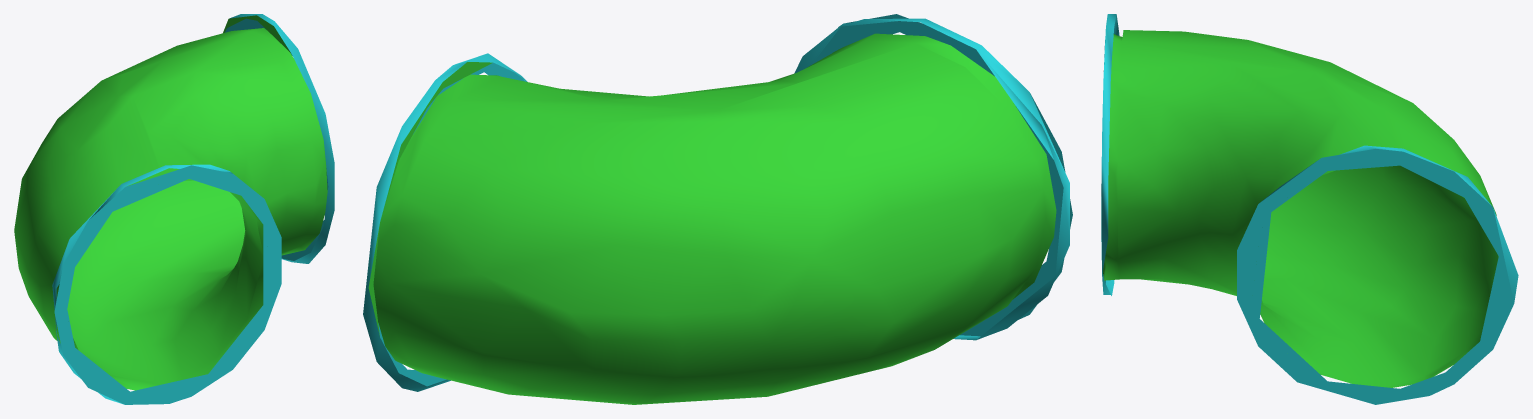
The model's file is tubo3.1_LOD2.fbx.
The picture shows the model from 3 angles, left to right: view 1: azimuth 30°, elevation 25°; view 2: azimuth 150°, elevation 25°; view 3: azimuth 270°, elevation 25°; orthographic projection. The views are drawn at different scales.
Parts seen in each view (by area): view 1: tubo3_1; view 2: tubo3_1; view 3: tubo3_1.
Boxes of the visible parts, left/top/right/bottom form: tubo3_1: left=14, top=14, right=334, bottom=404; tubo3_1: left=363, top=14, right=1072, bottom=404; tubo3_1: left=1101, top=14, right=1518, bottom=404.
Size of the model in its own units: 648 by 422 by 623.
